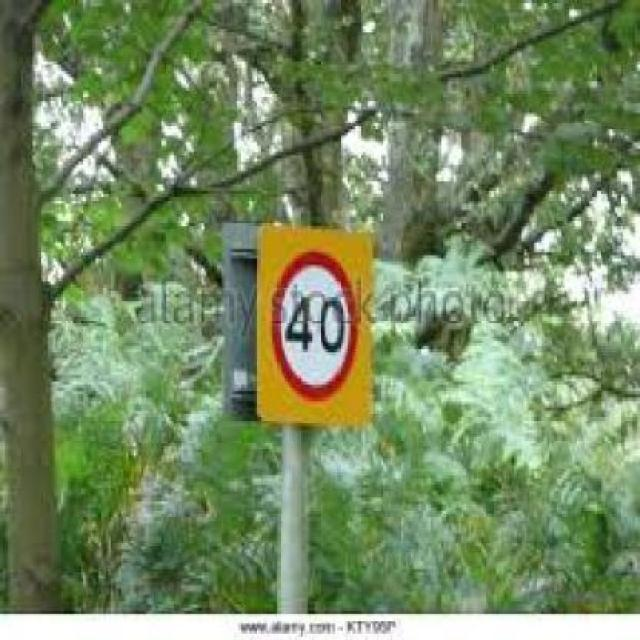forb_speed_over_40: (276, 252, 353, 400)
